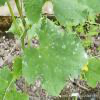Squash Powdery mildew leaf: (22, 17, 88, 96)
